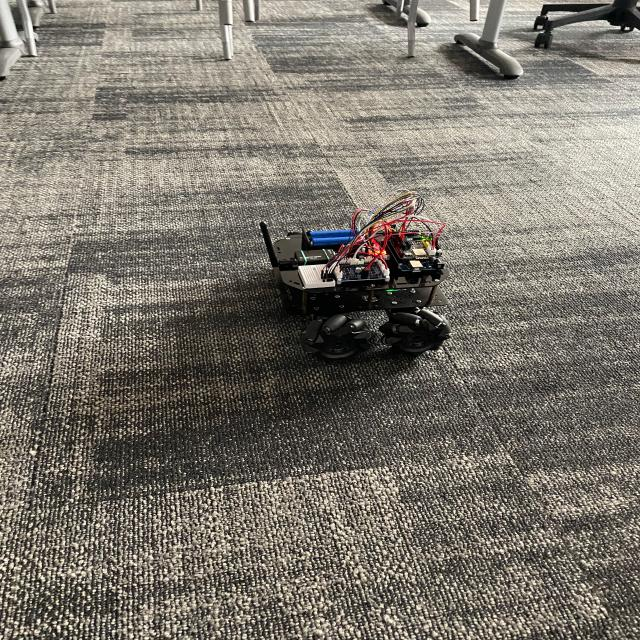ArduinoCar: (248, 184, 457, 368)
